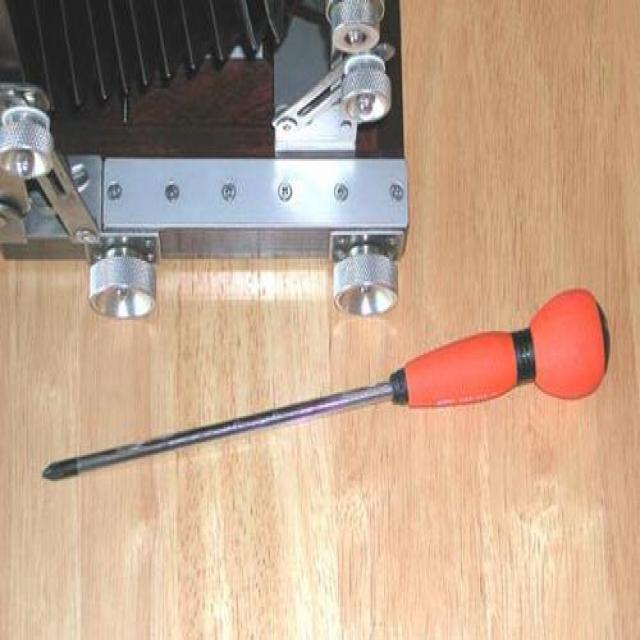screwdriver: (35, 275, 617, 518)
